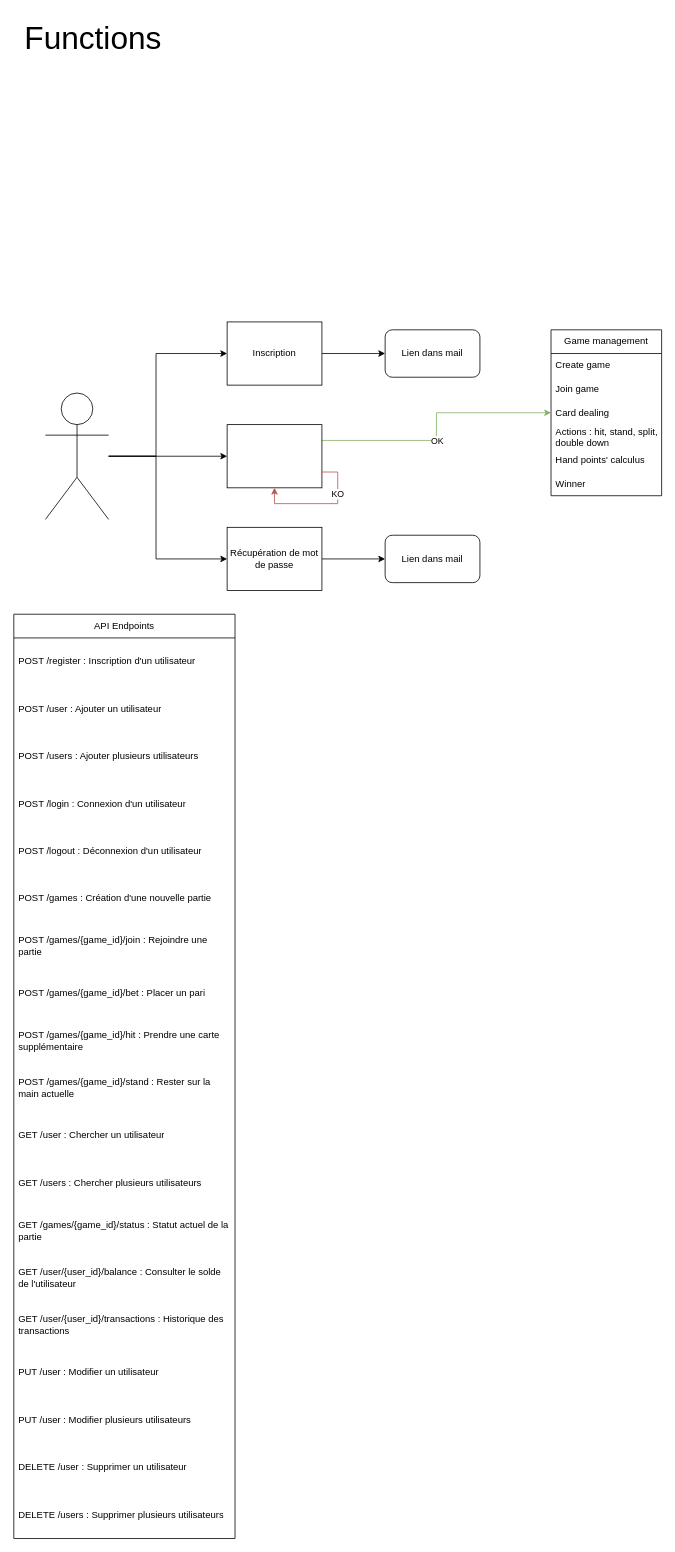
The diagram is 675 pixels wide and 1552 high, and some of its shapes have lost their labels. The shapes that lost their labels are listed below. From the top down, each one's centre as x and y in pixels, then its label:
At point 77,455: "User".
At point 274,456: "Connexion/Deconnexion".
